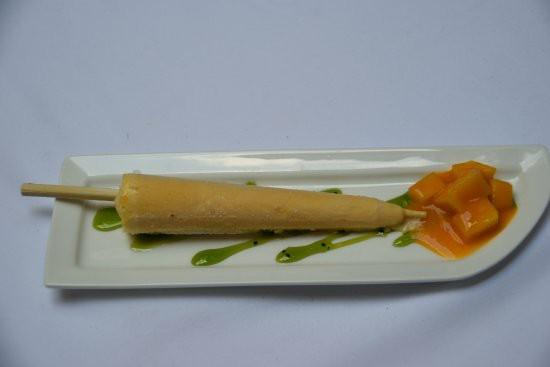Kulfi: (113, 172, 409, 235)
